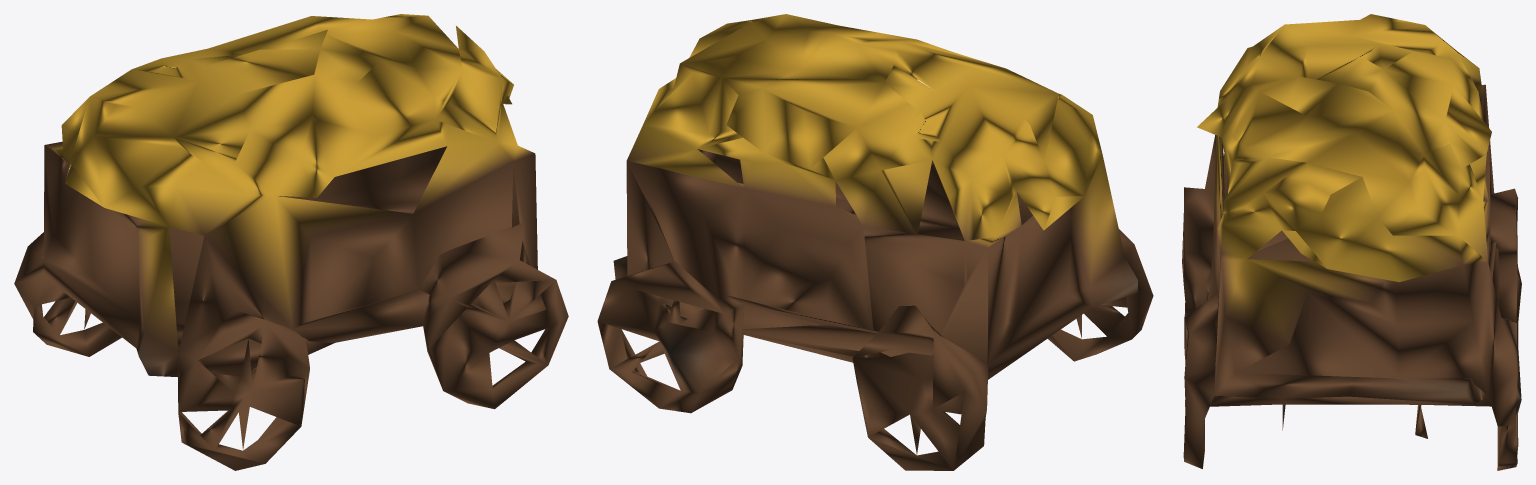
File: gen3d-hay-cart-lod1.glb
3 views of the same model, side by side, from view 1: azimuth 30°, elevation 25°; view 2: azimuth 150°, elevation 25°; view 3: azimuth 270°, elevation 25° (orthographic).
Parts seen in each view (by area): view 1: part_0; view 2: part_0; view 3: part_0.
Boxes of the visible parts, left/top/right/bottom form: part_0: left=14, top=14, right=568, bottom=470; part_0: left=597, top=14, right=1153, bottom=470; part_0: left=1182, top=14, right=1521, bottom=470.
Bounding box in the file's own units: 1.28 × 0.9815 × 0.9026.
